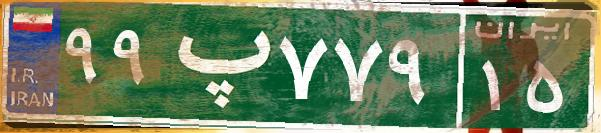1: (475, 38, 525, 113)
5: (525, 38, 570, 115)
7: (273, 28, 330, 110), (330, 28, 385, 110)
9: (385, 28, 445, 110), (57, 26, 110, 107), (110, 28, 158, 105)
پ: (158, 15, 273, 115)
